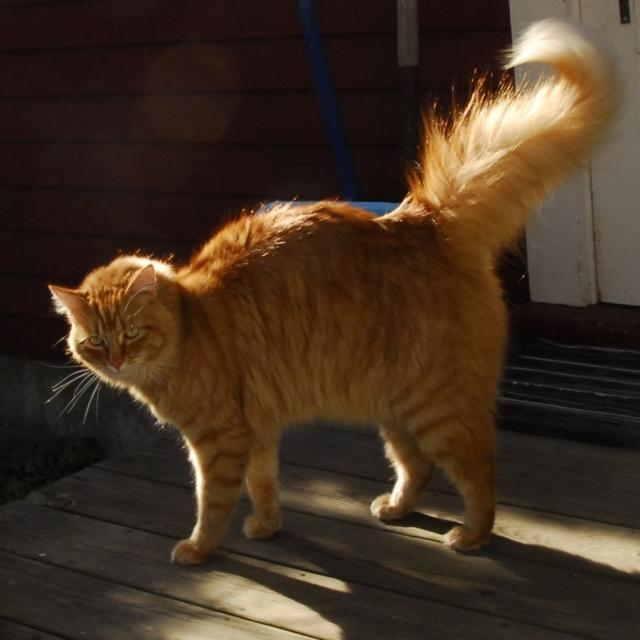Cat: (40, 17, 619, 564)
